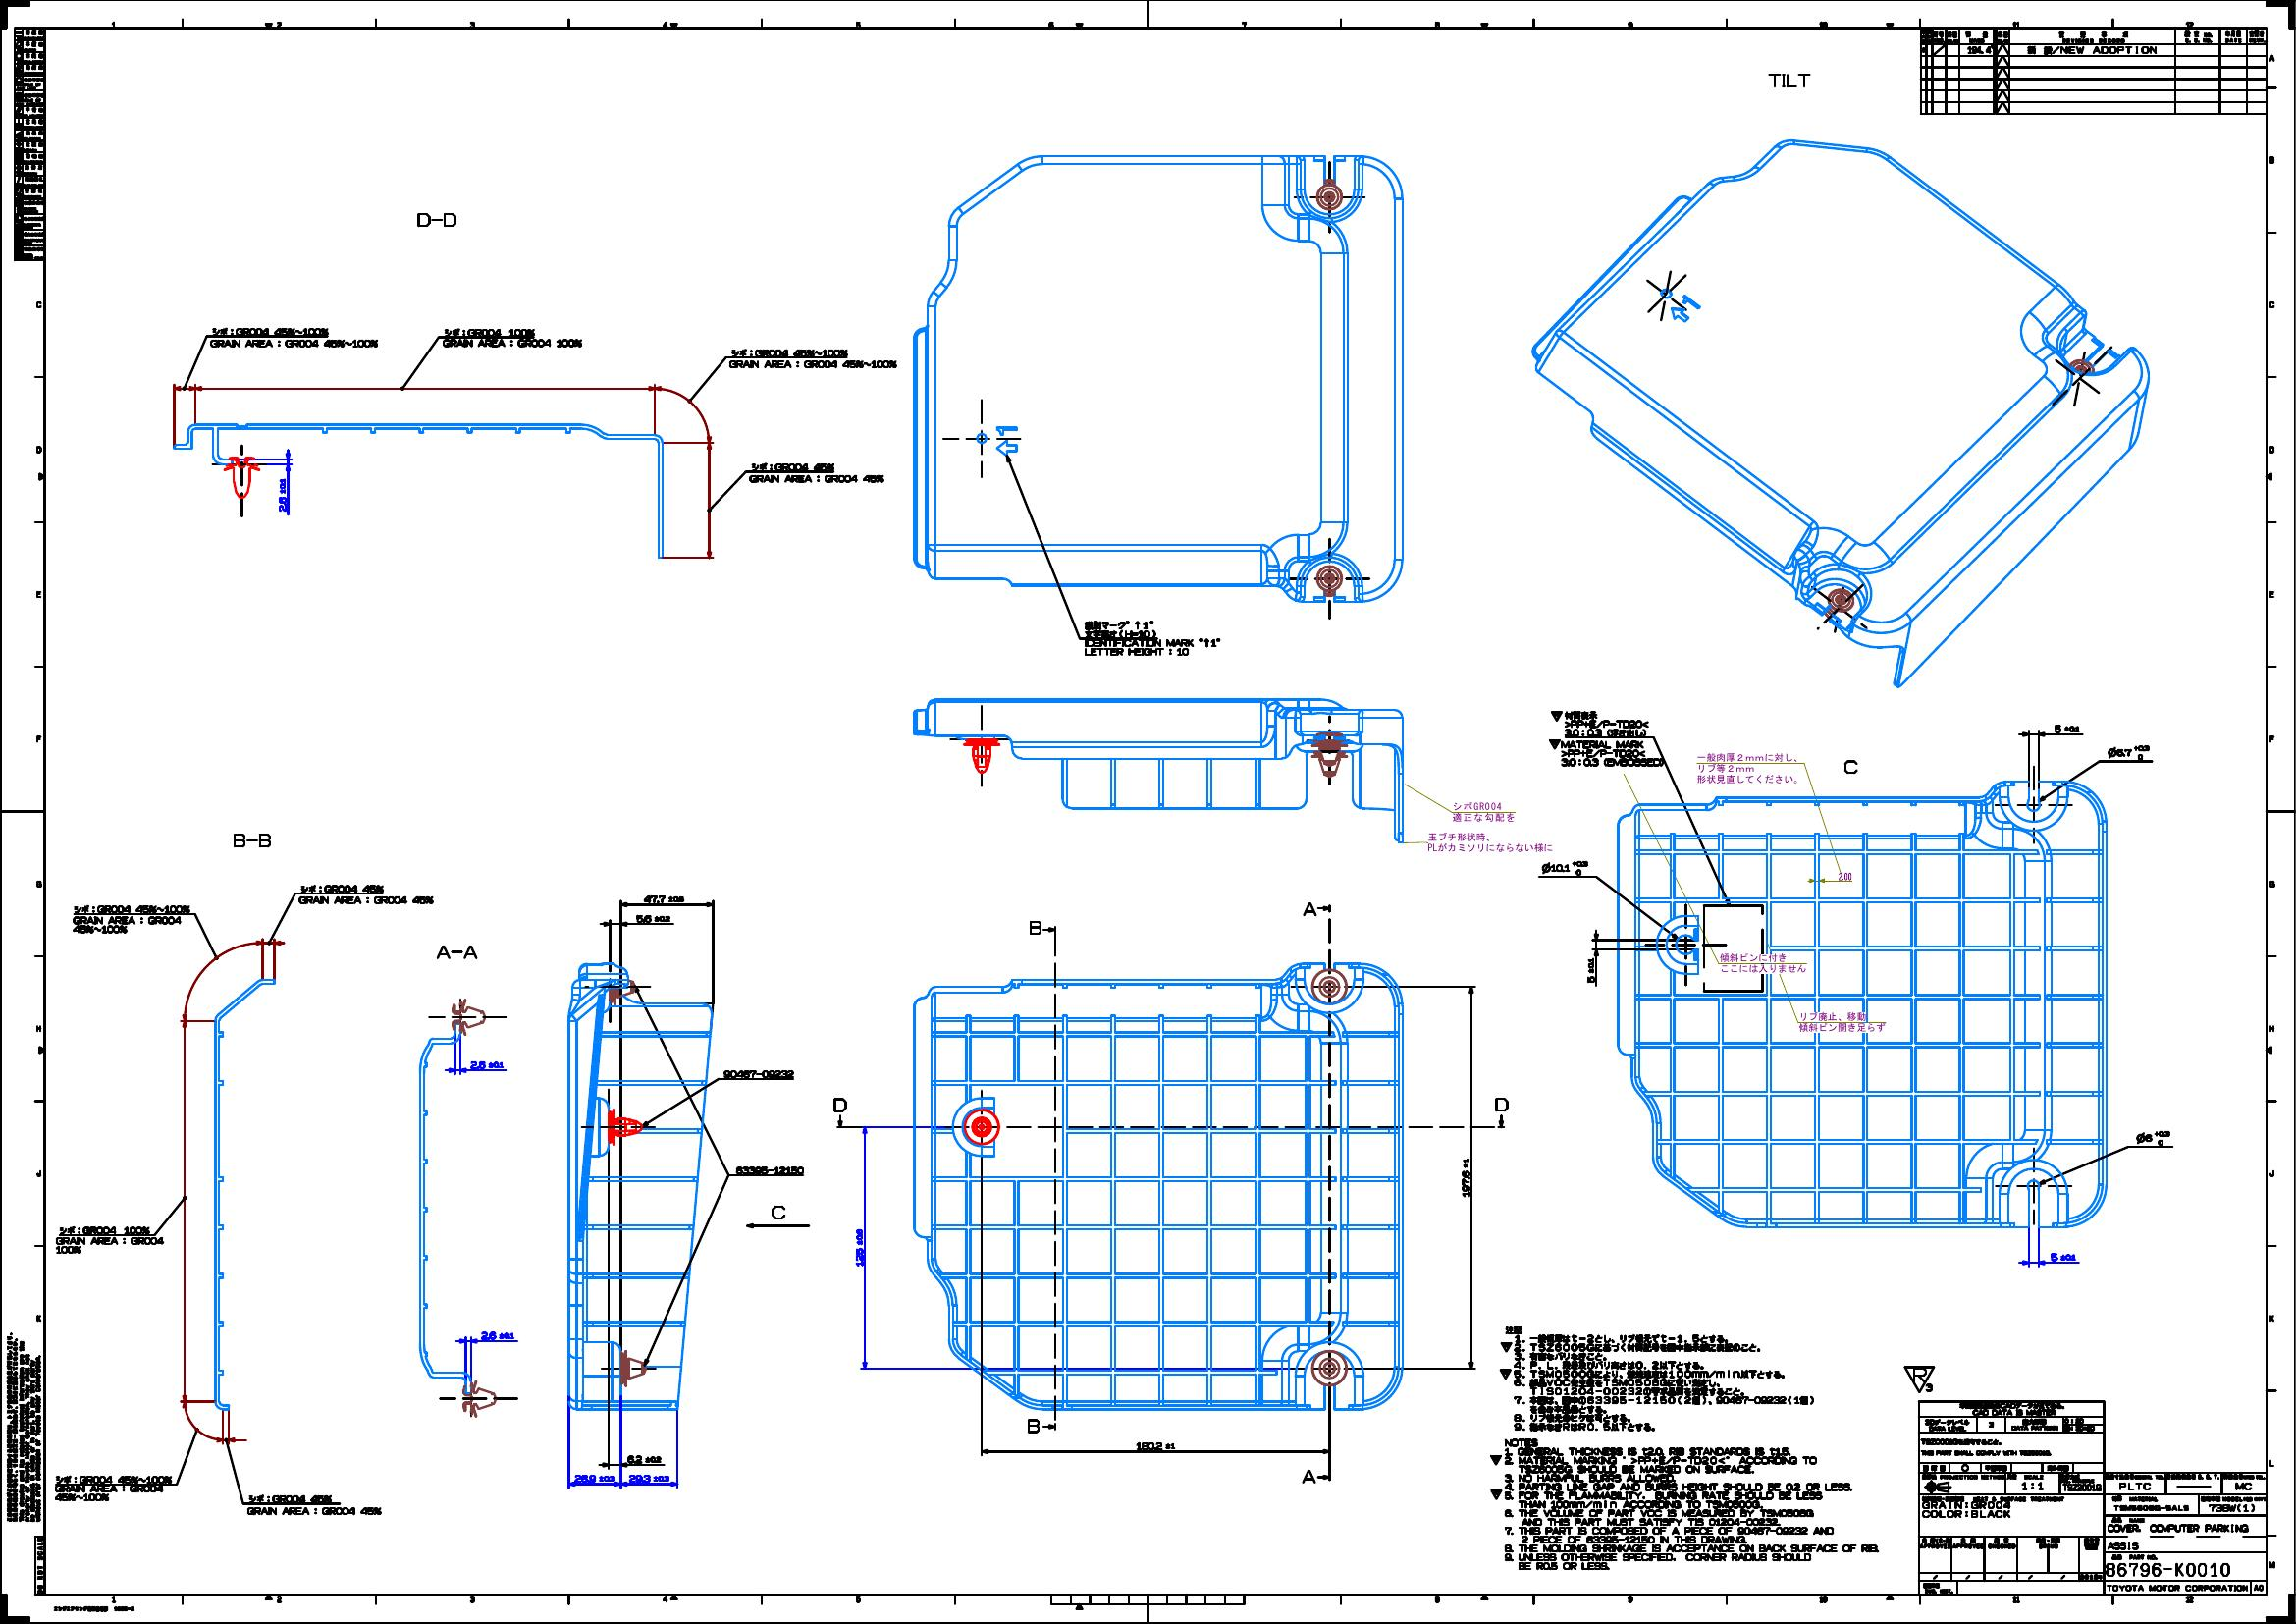anntotation_text: (1490, 1438, 1881, 1571), (1497, 1322, 1822, 1432), (5, 1332, 42, 1524), (1084, 619, 1221, 659), (70, 902, 195, 935), (729, 346, 898, 371), (209, 325, 379, 348), (1697, 750, 1801, 787), (1548, 738, 1664, 768), (748, 462, 887, 487), (248, 1492, 385, 1517), (54, 1475, 174, 1503), (299, 882, 434, 907), (54, 1225, 167, 1253), (441, 327, 583, 348), (1549, 708, 1650, 736), (1426, 831, 1555, 852), (1718, 953, 1811, 974), (1799, 1011, 1885, 1032), (1451, 800, 1516, 824), (1901, 1362, 1938, 1396), (1765, 70, 1813, 90), (230, 828, 274, 847), (434, 942, 480, 960), (413, 211, 458, 228), (733, 1164, 806, 1174), (53, 1605, 137, 1613), (33, 1534, 46, 1594), (722, 1069, 796, 1077), (1490, 1095, 1511, 1114), (769, 1202, 789, 1222), (831, 1095, 848, 1116), (1843, 756, 1860, 775), (1026, 917, 1042, 939), (1024, 1417, 1042, 1434), (1300, 1468, 1318, 1485), (1300, 902, 1318, 917)
dimension_text: (1539, 859, 1590, 875), (2108, 742, 2152, 759), (2134, 1127, 2173, 1146), (850, 1225, 866, 1267), (1458, 1153, 1472, 1200), (1133, 1438, 1179, 1452), (641, 891, 685, 905), (573, 1471, 618, 1483), (627, 1471, 671, 1483), (467, 1058, 506, 1070), (624, 1452, 662, 1464), (276, 475, 288, 513), (1585, 953, 1599, 984), (480, 1327, 515, 1339), (632, 912, 671, 923), (2048, 1250, 2076, 1262), (2052, 722, 2082, 733), (1836, 872, 1855, 881)
object: (1527, 135, 2150, 689), (1611, 775, 2112, 1229), (910, 956, 1407, 1411), (910, 153, 1407, 608), (169, 387, 711, 562), (908, 696, 1407, 849), (562, 958, 715, 1413), (179, 939, 283, 1448), (415, 993, 499, 1418)
title_block: (1915, 1397, 2270, 1594), (1917, 28, 2266, 116), (11, 26, 46, 262)
